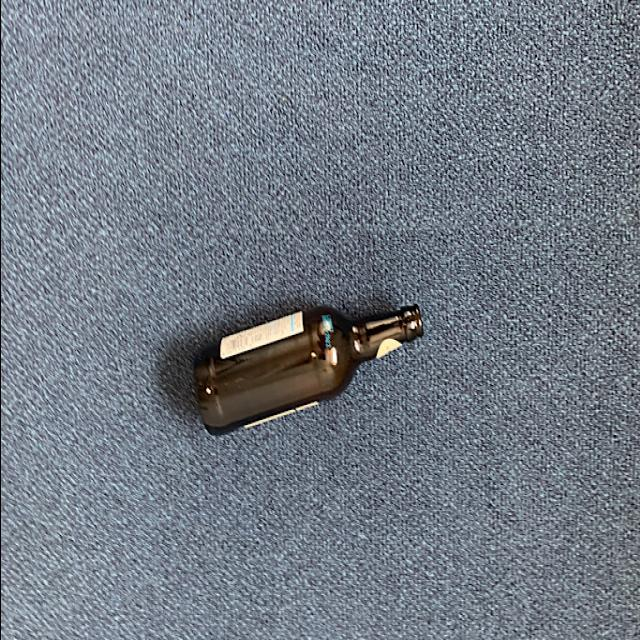Glass Bottle: (190, 296, 429, 448)
